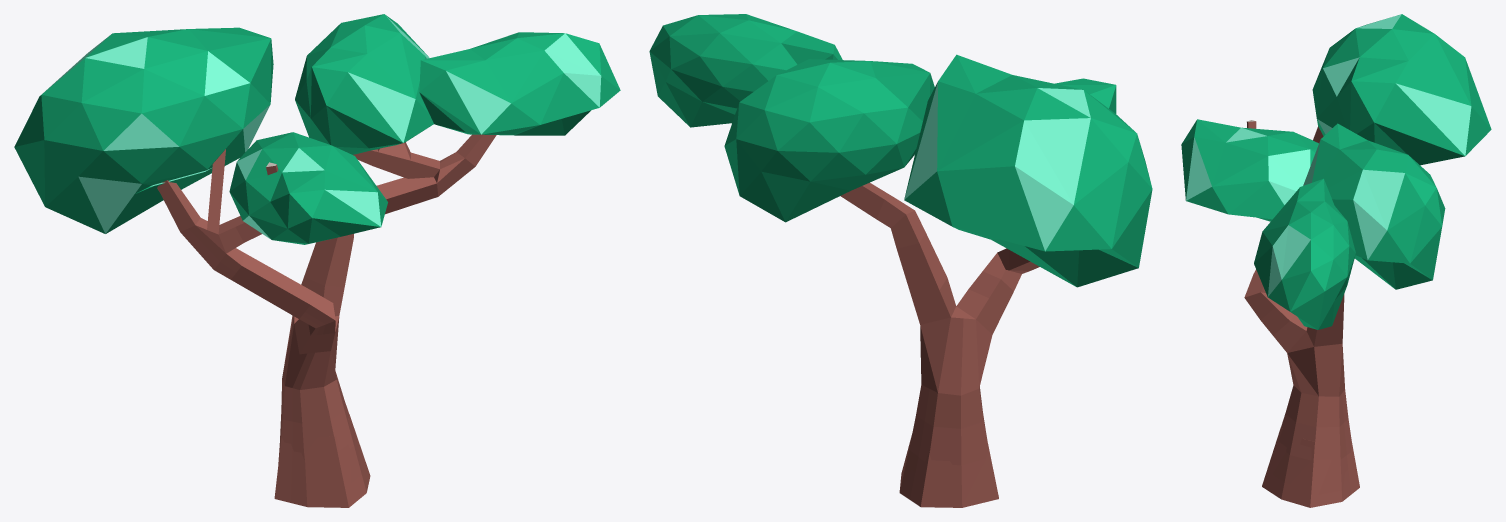
The model's file is AgacSet2.fbx.
3 views of the same model, side by side, from view 1: azimuth 30°, elevation 25°; view 2: azimuth 150°, elevation 25°; view 3: azimuth 270°, elevation 25° (orthographic). The views are drawn at different scales.
Visible parts, largest first — view 1: Agac1, Agac3, Agac6, Agac2; view 2: Agac1, Agac3, Agac2, Agac6; view 3: Agac1, Agac6, Agac3, Agac2.
Part boxes in pixels (bbox=[...]): Agac1: bbox=[14, 14, 620, 507]; Agac3: bbox=[44, 72, 415, 233]; Agac6: bbox=[274, 414, 370, 507]; Agac2: bbox=[307, 33, 564, 135]; Agac1: bbox=[649, 14, 1152, 507]; Agac3: bbox=[785, 111, 1139, 286]; Agac2: bbox=[690, 63, 926, 150]; Agac6: bbox=[899, 435, 998, 506]; Agac1: bbox=[1181, 14, 1491, 507]; Agac6: bbox=[1262, 427, 1359, 507]; Agac3: bbox=[1181, 120, 1469, 199]; Agac2: bbox=[1313, 124, 1445, 263].
Bounding box in the file's own units: 3.64 × 3 × 2.09.
Materials: 1 (1 with a texture image).
